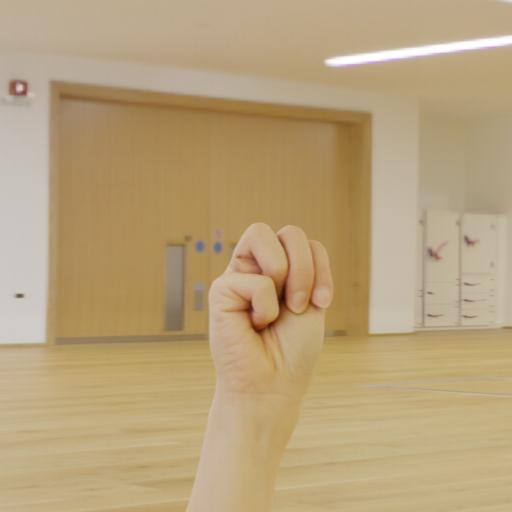M: (200, 214, 341, 418)
